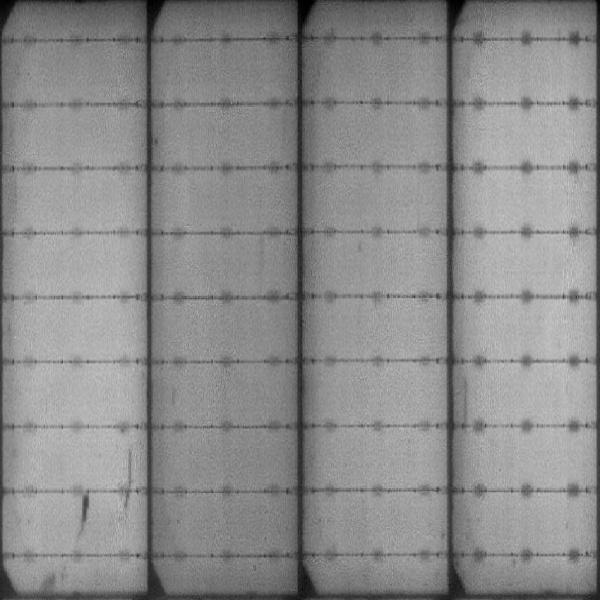broken: (76, 493, 97, 525)
scratch: (459, 371, 478, 424), (121, 441, 135, 511)
